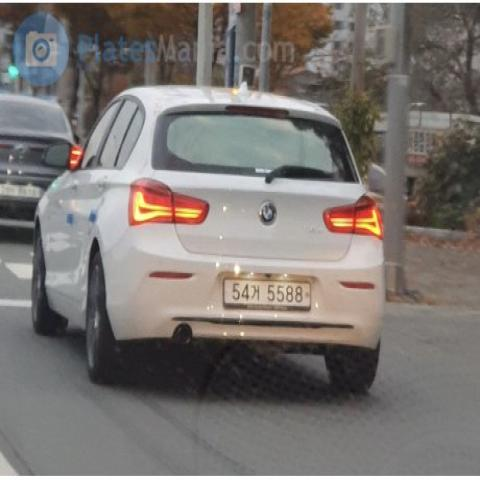LP: (220, 267, 316, 317)
